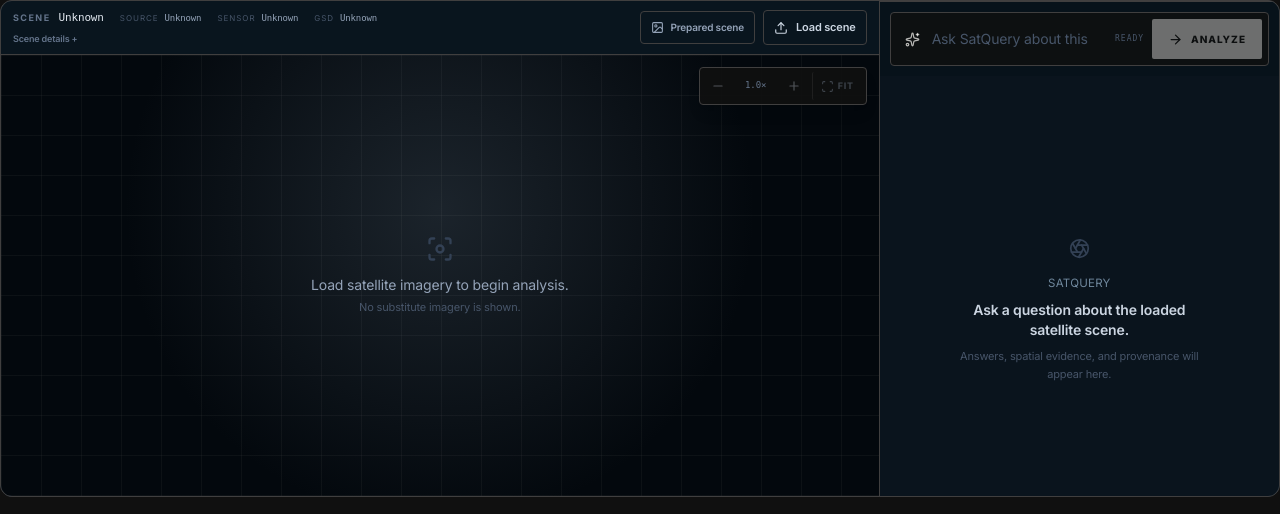
Test: Workspace analysis orchestration › blocks duplicate analysis while planning is pending
Click the button "Prepared scene". click: click(698, 28)
box: [640,11,755,44]
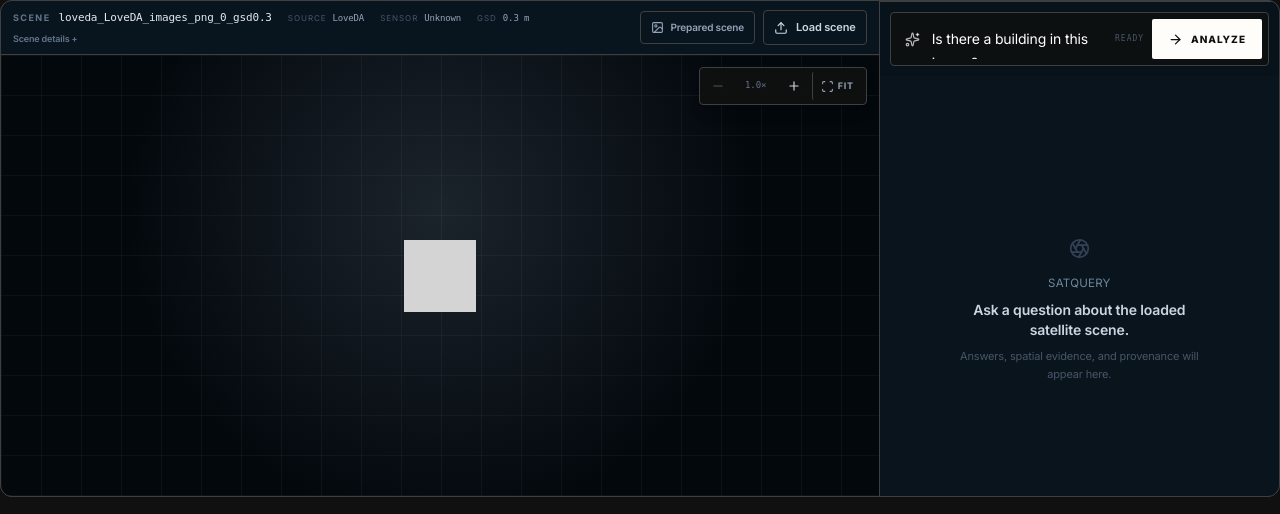
Submit the form "READY Analyze", box [890,12,1269,66]
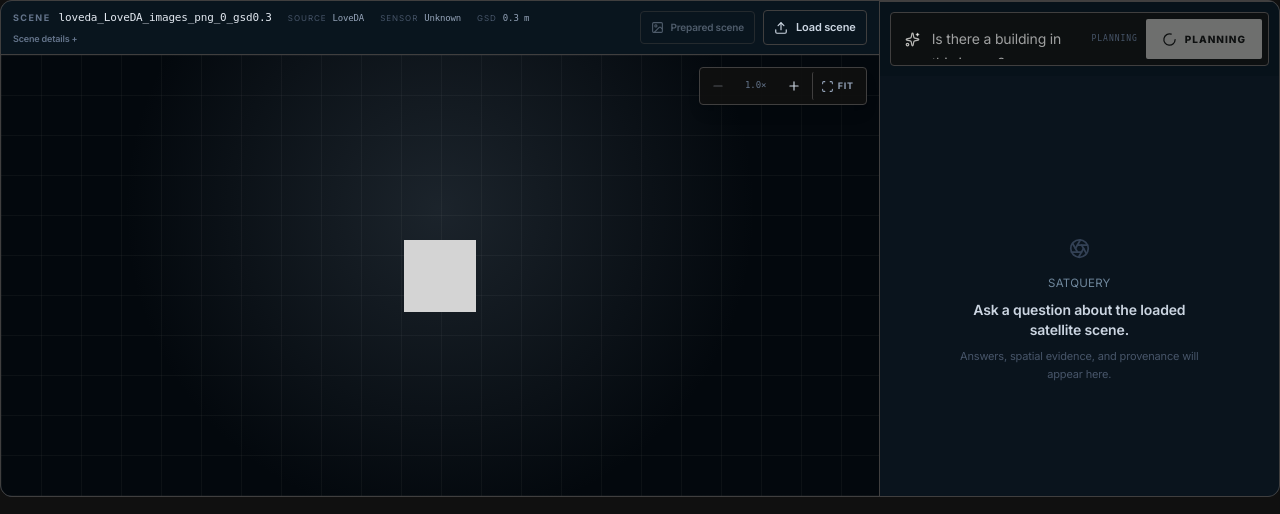
Submit the form named "analyze", box [890,12,1269,66]
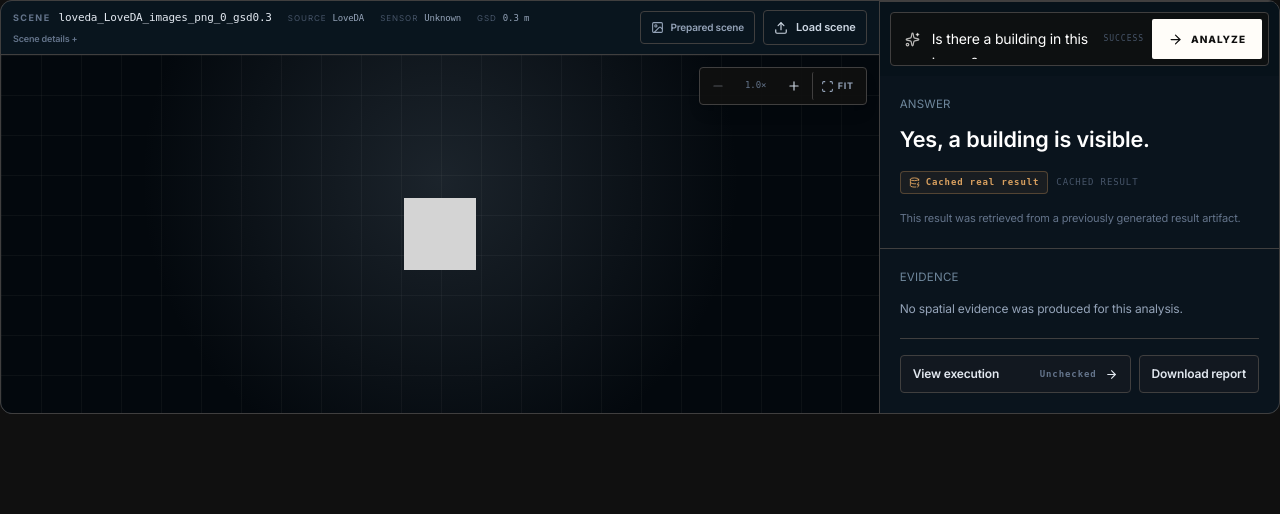
Result: the text "Yes, a building is visible." is shown at [900,126,1150,152]
